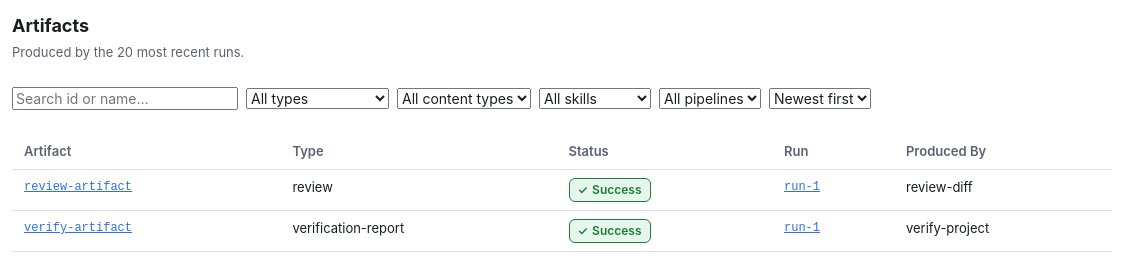
Test: ArtifactsPage › filters artifacts by producing skill
Expected: the link "review-artifact" is shown, [24,180,132,194]
Select "verify-project" in the dropdown named "Filter by producing skill" at (595, 98), box [539,88,651,108]
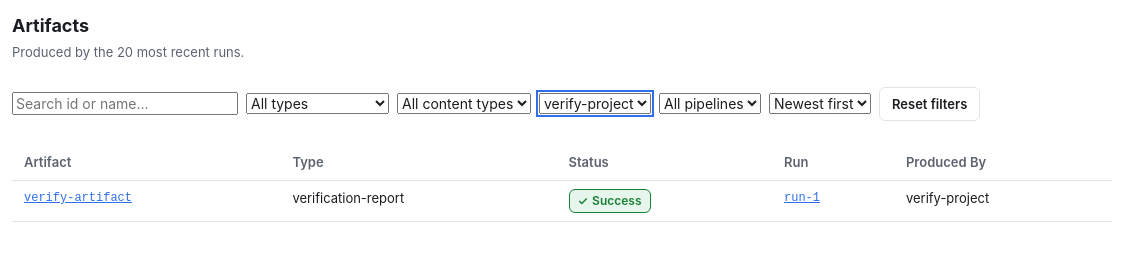
Expected: the link "verify-artifact" is shown, [24,191,132,205]
Expected: the link "review-artifact" is gone
